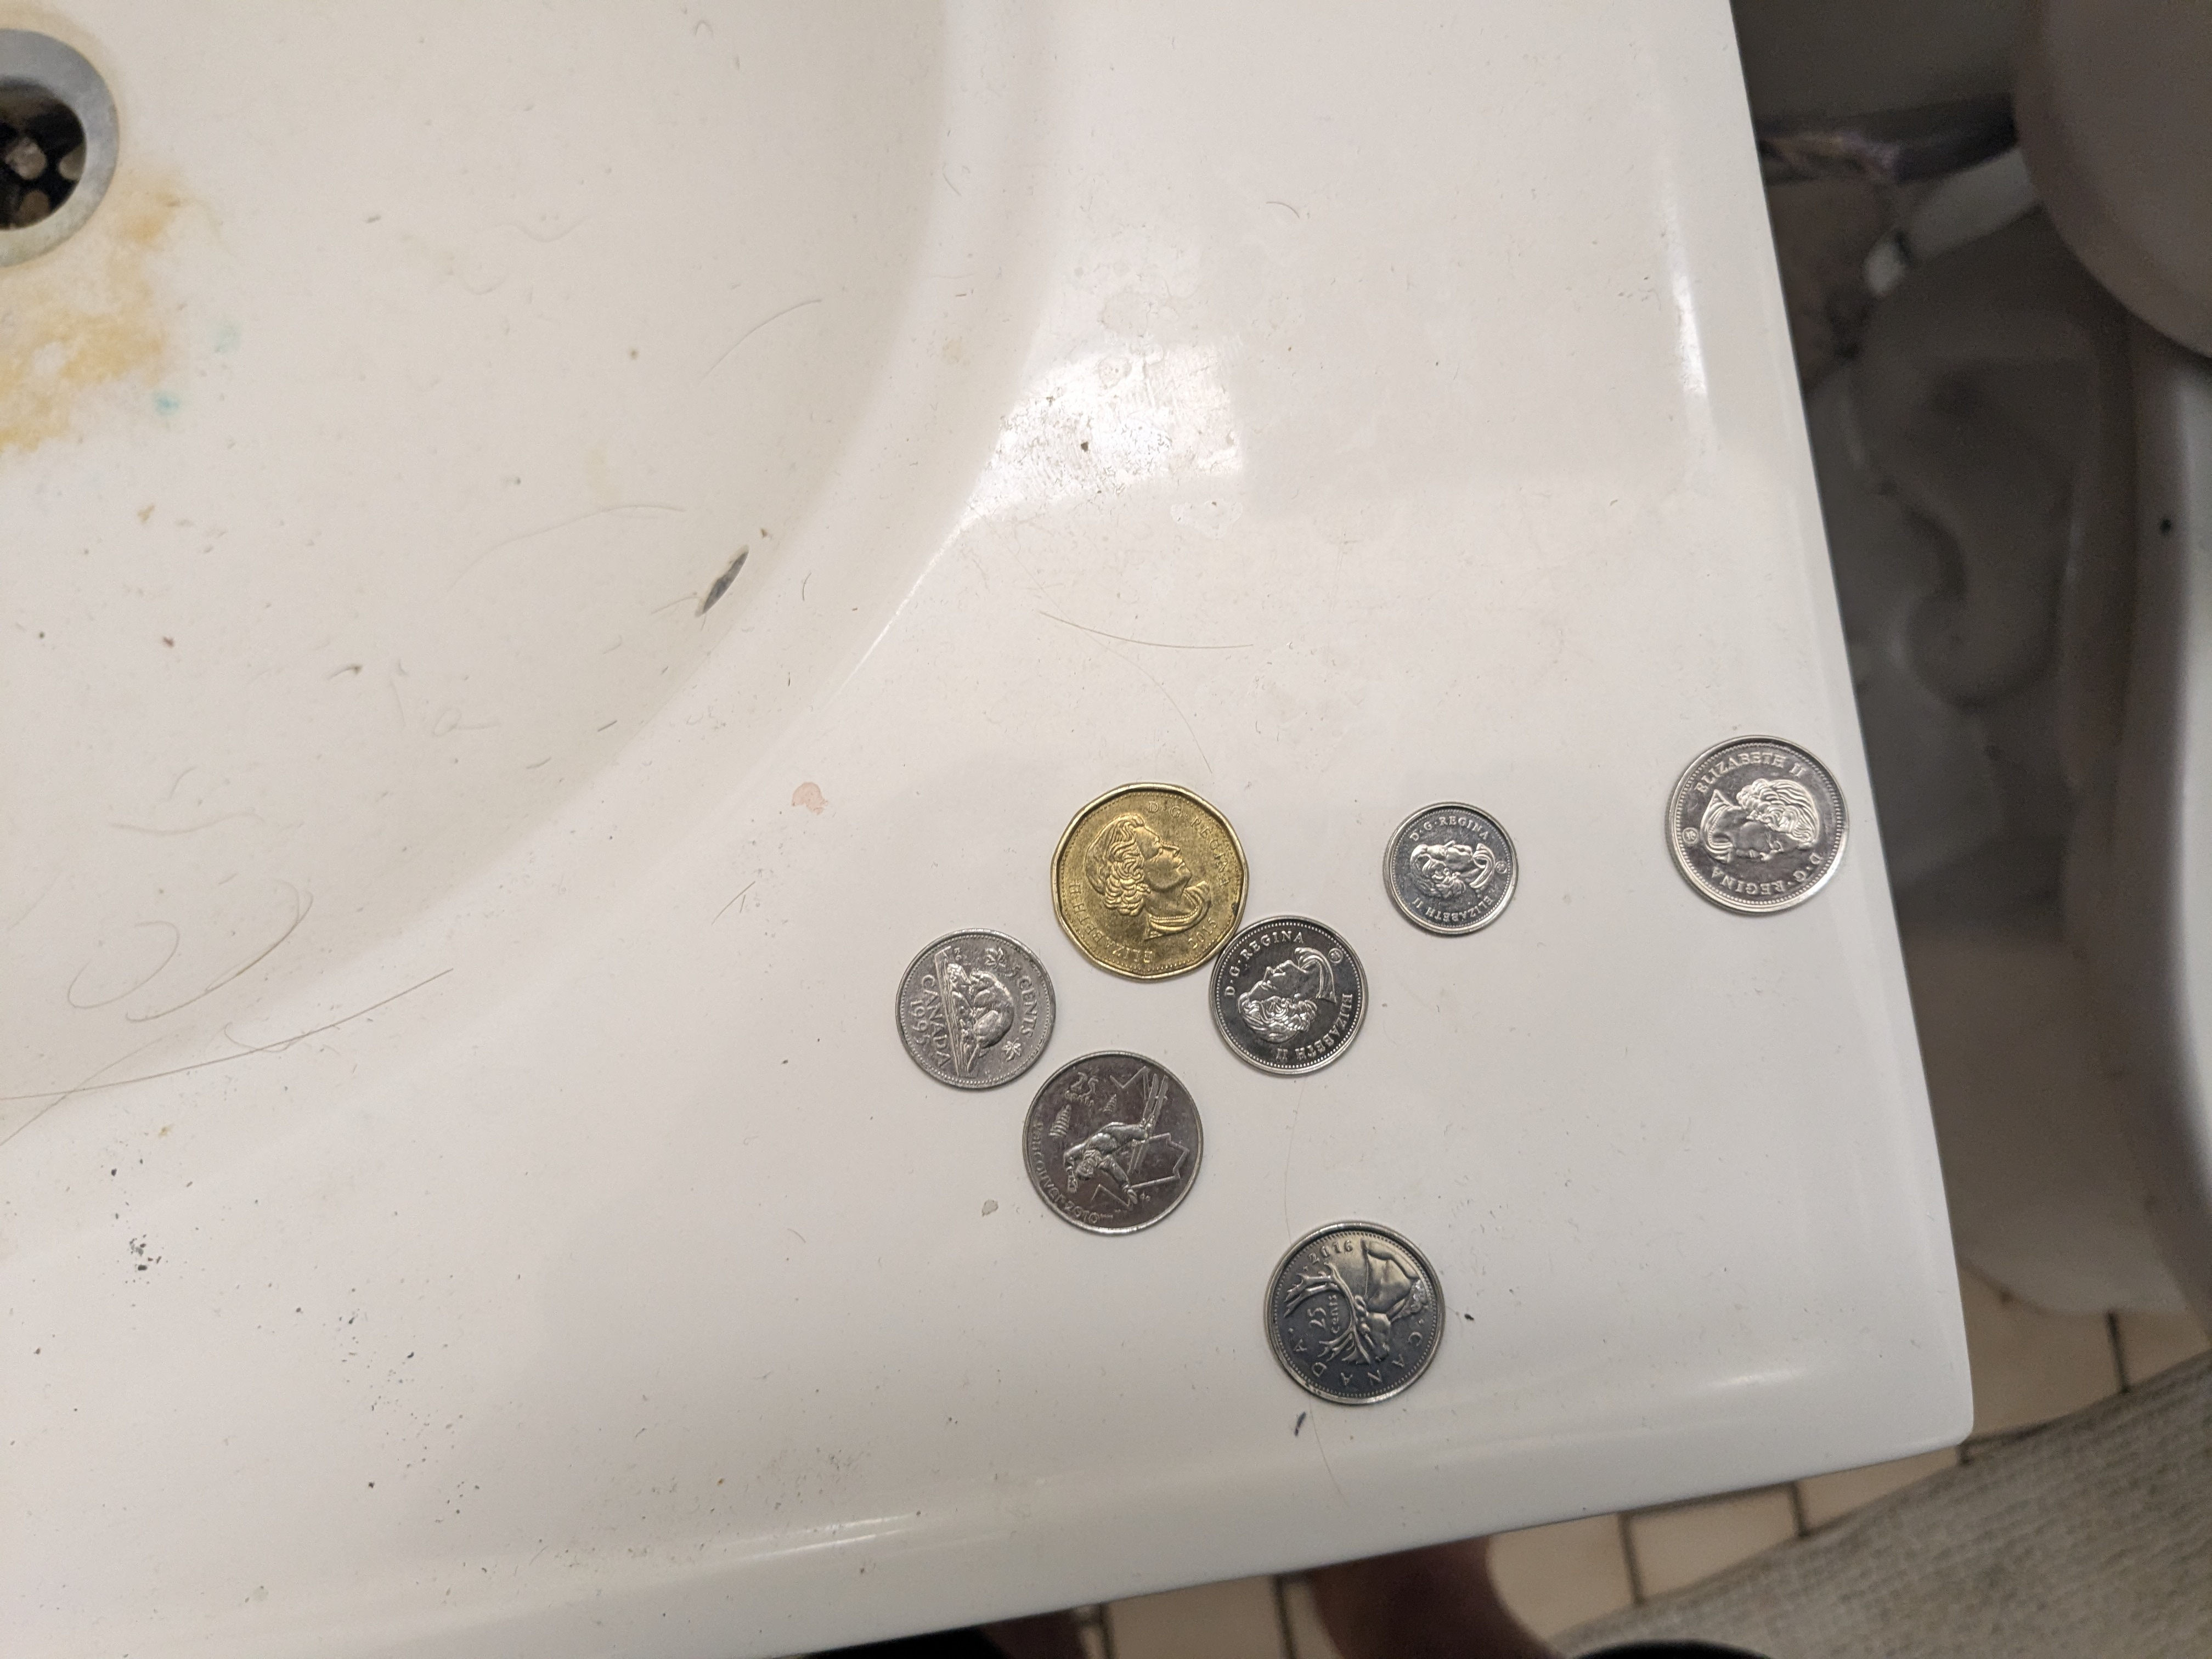dime: (1385, 805, 1521, 939)
loonie: (1055, 779, 1251, 976)
nickel: (1207, 913, 1372, 1079), (883, 932, 1055, 1091)
quarter: (1021, 1049, 1211, 1234), (1266, 1215, 1449, 1406), (1663, 737, 1853, 920)
